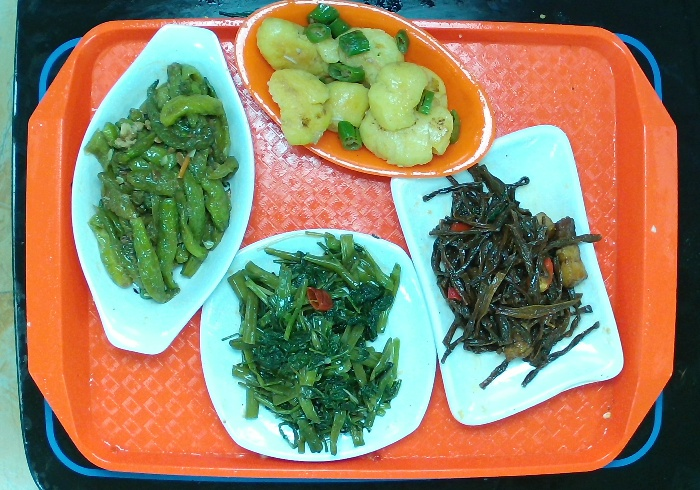RJxy-Ju_Huang_Tuo_Yuan: (228, 3, 497, 186)
RJxy-Si_Fang_Ao_Bian_Wan: (389, 123, 627, 430)
RJxy-Si_Fang_Die: (195, 228, 434, 464)
RJxy-Yu_Pan: (66, 23, 257, 352)
